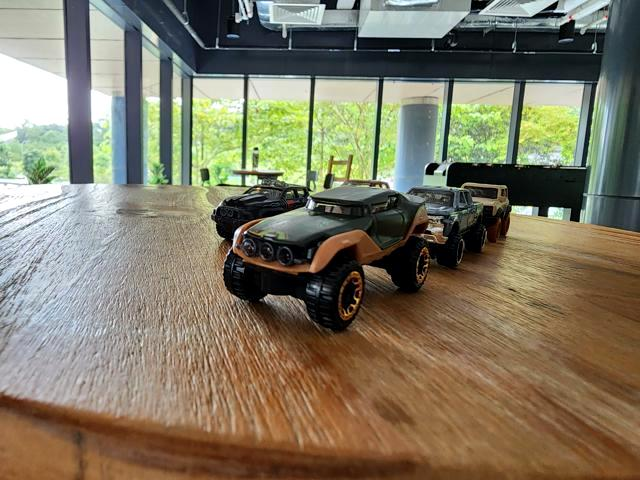toy-car: (223, 186, 430, 330), (404, 186, 488, 268), (211, 184, 310, 239), (461, 182, 512, 243)
